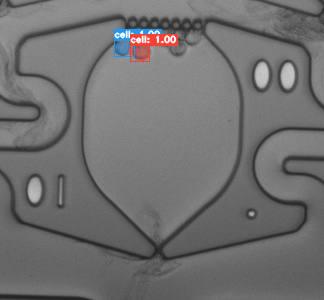AptNum: (245, 54, 300, 98)
Marker: (236, 201, 263, 228)
StNum: (20, 170, 74, 213)
